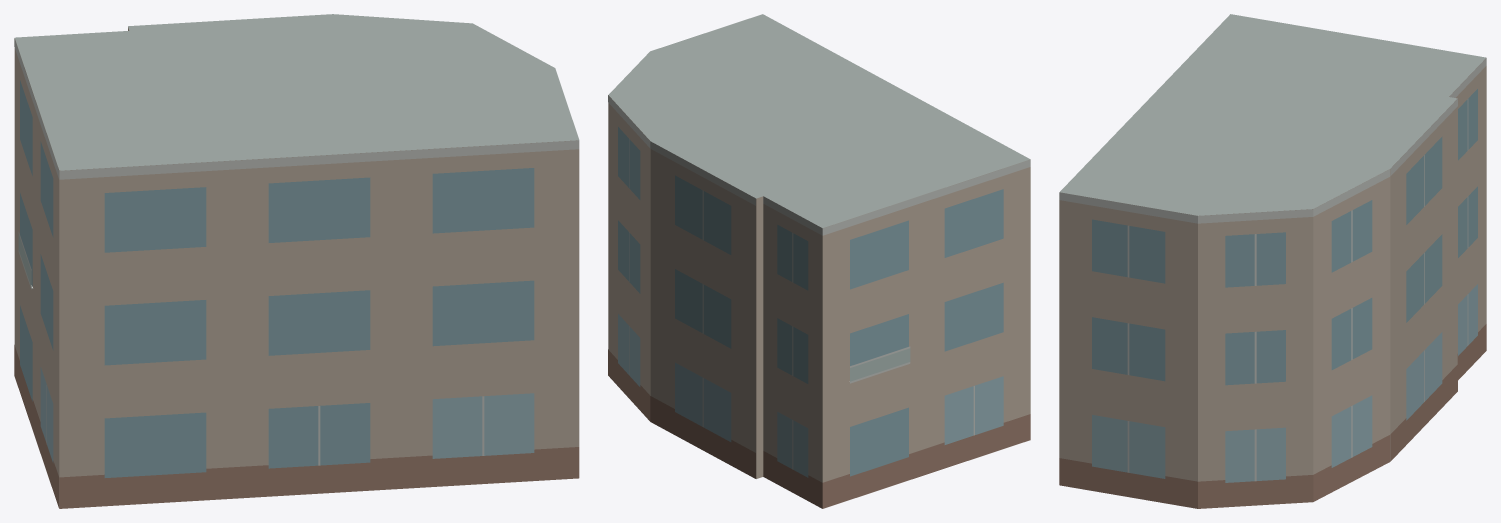
Rendered from survey-upis-32708277.glb.
The picture shows the model from 3 angles, left to right: view 1: azimuth 30°, elevation 25°; view 2: azimuth 150°, elevation 25°; view 3: azimuth 270°, elevation 25°; orthographic projection. The views are drawn at different scales.
Visible parts, largest first — view 1: survey-upis-32708277.tmp; view 2: survey-upis-32708277.tmp; view 3: survey-upis-32708277.tmp.
Part boxes in pixels (x1=…): survey-upis-32708277.tmp: x1=14, y1=14, x2=579, y2=508; survey-upis-32708277.tmp: x1=608, y1=14, x2=1030, y2=508; survey-upis-32708277.tmp: x1=1059, y1=14, x2=1486, y2=508.
Bounding box in the file's own units: 13.53 × 9.15 × 12.1.
